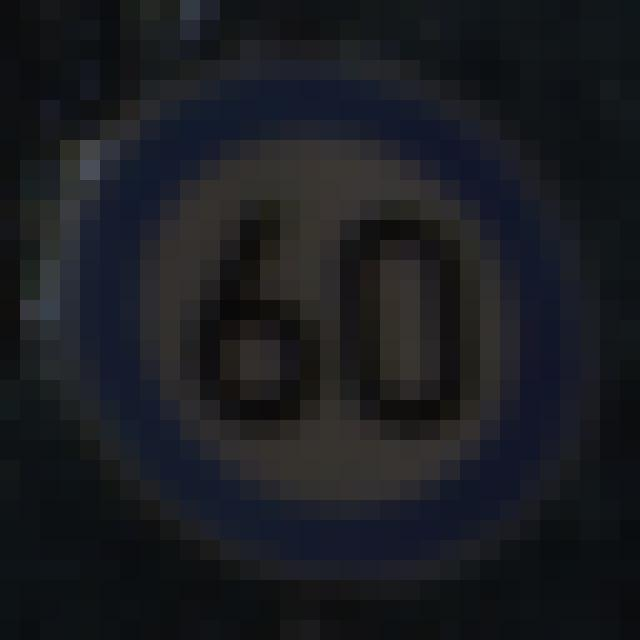SPEED-LIMIT-60: (20, 34, 610, 588)
